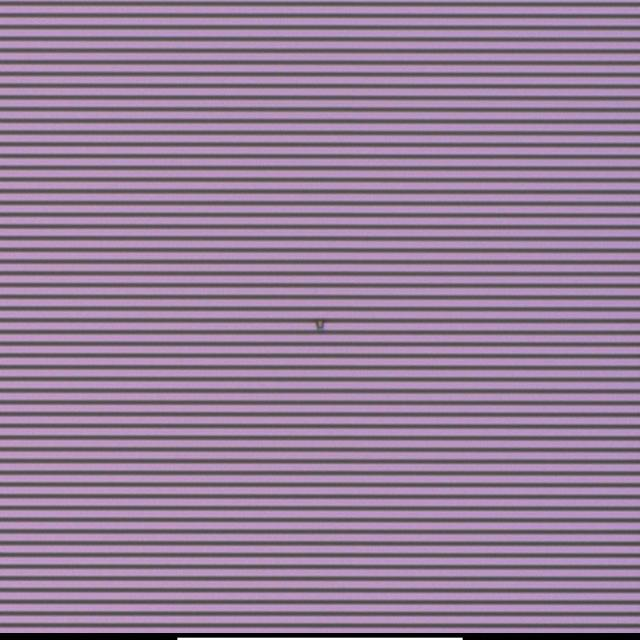03_intrusion: (315, 318, 328, 334)
